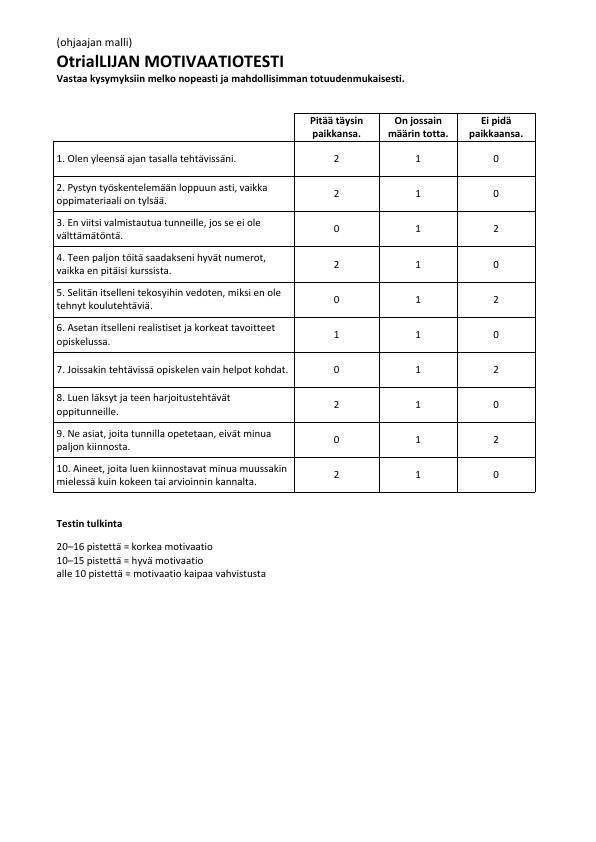table: (47, 110, 544, 501)
text: (48, 34, 412, 94), (51, 514, 270, 583)
